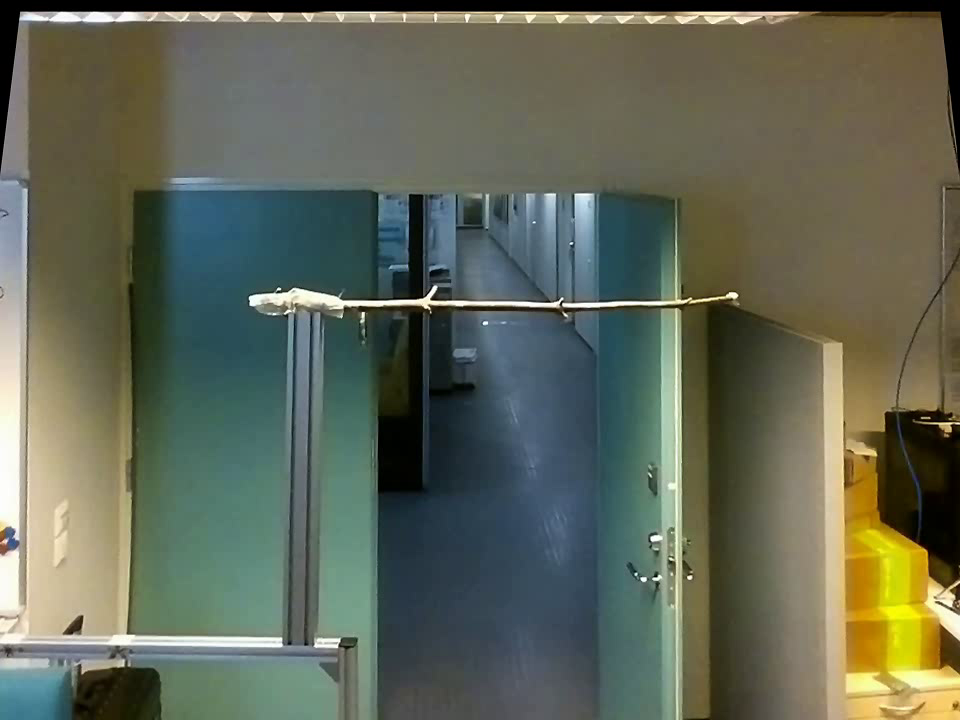aluminum_frame: (279, 313, 321, 648), (1, 633, 343, 664), (336, 637, 364, 718)
branch: (351, 279, 722, 326)
